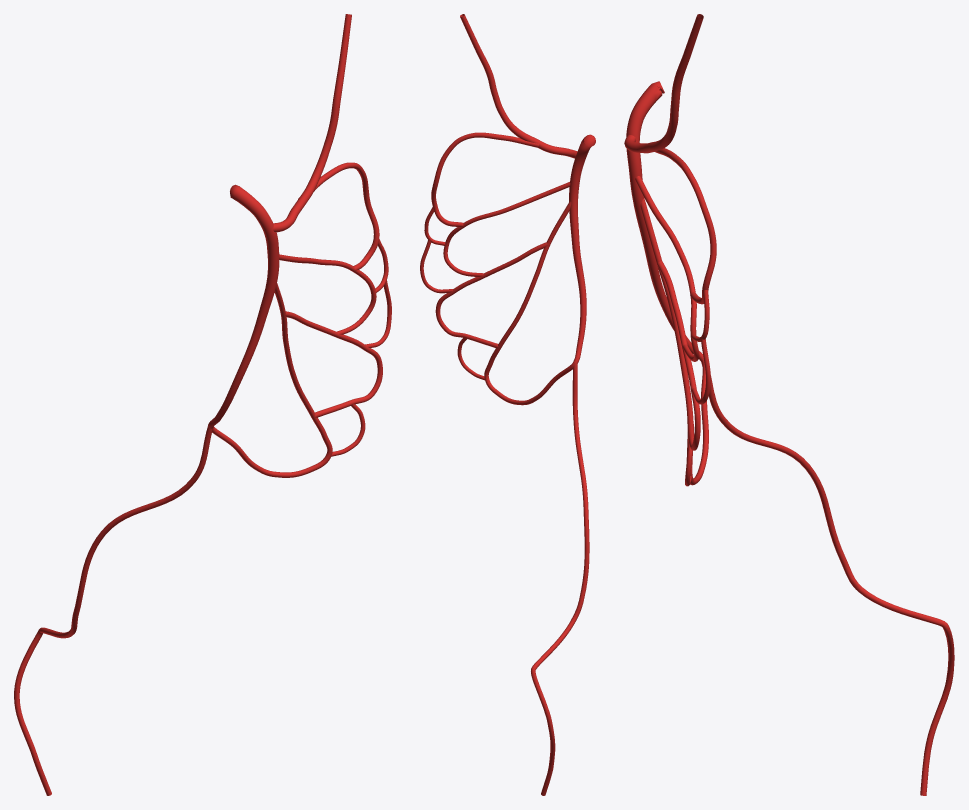
File: circulatorio-inferior-mesenteric-artery.glb
3 renders of one model, left to right at view 1: azimuth 30°, elevation 25°; view 2: azimuth 150°, elevation 25°; view 3: azimuth 270°, elevation 25°, orthographic. The views are drawn at different scales.
Visible parts, largest first — view 1: Sigmoid arteries, Superior anorectal artery, Inferior mesenteric artery, Ascending branch of left colic artery, Descending branch of left colic artery; view 2: Sigmoid arteries, Superior anorectal artery, Inferior mesenteric artery, Descending branch of left colic artery, Ascending branch of left colic artery, Left colic artery; view 3: Sigmoid arteries, Superior anorectal artery, Inferior mesenteric artery, Descending branch of left colic artery, Ascending branch of left colic artery.
Part boxes in pixels (left/top/right/bottom): Sigmoid arteries: left=212, top=254, right=391, bottom=477; Superior anorectal artery: left=14, top=426, right=212, bottom=795; Inferior mesenteric artery: left=208, top=184, right=279, bottom=428; Ascending branch of left colic artery: left=303, top=14, right=351, bottom=197; Descending branch of left colic artery: left=298, top=162, right=388, bottom=292; Sigmoid arteries: left=420, top=182, right=574, bottom=405; Superior anorectal artery: left=531, top=363, right=589, bottom=795; Inferior mesenteric artery: left=569, top=134, right=595, bottom=363; Descending branch of left colic artery: left=424, top=132, right=538, bottom=245; Ascending branch of left colic artery: left=460, top=14, right=535, bottom=142; Left colic artery: left=533, top=138, right=577, bottom=158; Sigmoid arteries: left=635, top=176, right=710, bottom=486; Superior anorectal artery: left=701, top=362, right=954, bottom=795; Inferior mesenteric artery: left=626, top=81, right=703, bottom=361; Descending branch of left colic artery: left=655, top=148, right=716, bottom=341; Ascending branch of left colic artery: left=649, top=14, right=703, bottom=151.
Size of the model in its own units: 0.0955 by 0.2752 by 0.0928.
